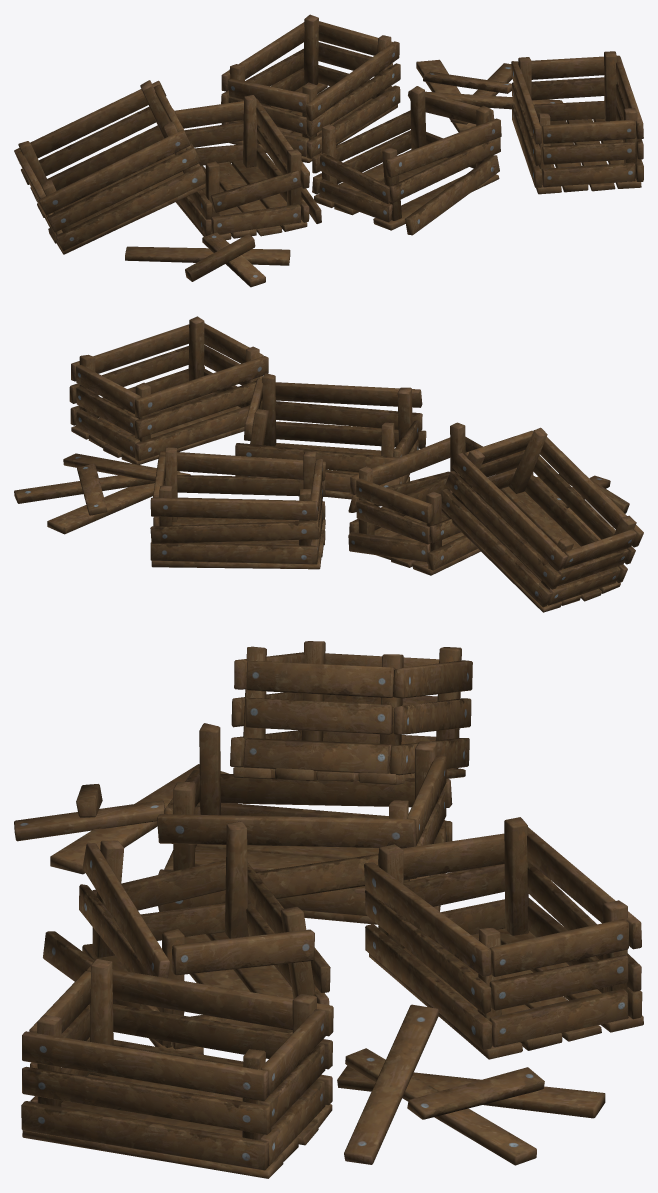
File: crates.glb
The picture shows the model from 3 angles, top to bottom: view 1: azimuth 30°, elevation 25°; view 2: azimuth 150°, elevation 25°; view 3: azimuth 270°, elevation 25°; orthographic projection. The views are drawn at different scales.
Visible parts, largest first — view 1: P_3.012, P_1.010, P_2.012, P_4.010, P_4.007, P_5.012, P_5.009, P_6.009, Bottom_plank_02, P_1.006, P_6.012, L_4.005 (+61 smaller); view 2: P_4.006, P_6.006, P_5.006, P_4.010, P_1.005, P_6.012, P_1.006, P_5.012, P_4.007, P_5.009, P_2.005, P_2.006 (+55 smaller); view 3: P_4.005, P_6.005, P_1.007, P_5.005, P_1.005, Plank_03.003, P_2.005, P_5.007, L_4.010, L_1.007, L_5.012, L_6.012 (+66 smaller).
Part boxes in pixels (x1=…): P_3.012: x1=55, y1=166, x2=205, y2=251; P_1.010: x1=38, y1=129, x2=190, y2=215; P_2.012: x1=47, y1=147, x2=200, y2=232; P_4.010: x1=14, y1=80, x2=166, y2=164; P_4.007: x1=386, y1=118, x2=501, y2=177; P_5.012: x1=21, y1=99, x2=167, y2=184; P_5.009: x1=389, y1=137, x2=500, y2=202; P_6.009: x1=405, y1=155, x2=499, y2=235; Bottom_plank_02: x1=125, y1=246, x2=290, y2=265; P_1.006: x1=306, y1=41, x2=399, y2=121; P_6.012: x1=30, y1=125, x2=163, y2=202; L_4.005: x1=542, y1=119, x2=635, y2=143; P_4.006: x1=150, y1=497, x2=317, y2=520; P_6.006: x1=150, y1=542, x2=317, y2=564; P_5.006: x1=150, y1=520, x2=319, y2=543; P_4.010: x1=452, y1=452, x2=567, y2=571; P_1.005: x1=135, y1=356, x2=268, y2=417; P_6.012: x1=441, y1=488, x2=552, y2=607; P_1.006: x1=159, y1=451, x2=325, y2=480; P_5.012: x1=445, y1=471, x2=560, y2=589; P_4.007: x1=262, y1=382, x2=422, y2=407; P_5.009: x1=259, y1=400, x2=422, y2=431; P_2.005: x1=135, y1=380, x2=256, y2=438; P_2.006: x1=177, y1=475, x2=325, y2=496; P_4.005: x1=22, y1=1031, x2=268, y2=1101; P_6.005: x1=21, y1=1101, x2=268, y2=1170; P_1.007: x1=157, y1=814, x2=416, y2=848; P_5.005: x1=22, y1=1066, x2=271, y2=1134; P_1.005: x1=86, y1=966, x2=333, y2=1036; Plank_03.003: x1=344, y1=1004, x2=438, y2=1164; P_2.005: x1=89, y1=1003, x2=332, y2=1069; P_5.007: x1=199, y1=774, x2=452, y2=807; L_4.010: x1=246, y1=661, x2=395, y2=697; L_1.007: x1=171, y1=929, x2=314, y2=975; L_5.012: x1=245, y1=698, x2=393, y2=734; L_6.012: x1=243, y1=738, x2=391, y2=773.
Bounding box in the file's own units: 2.48 × 0.5224 × 1.47.
1 material, 1 textured.
